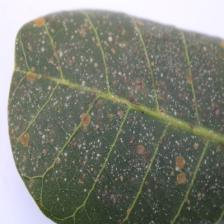red rust: (8, 11, 223, 223)
